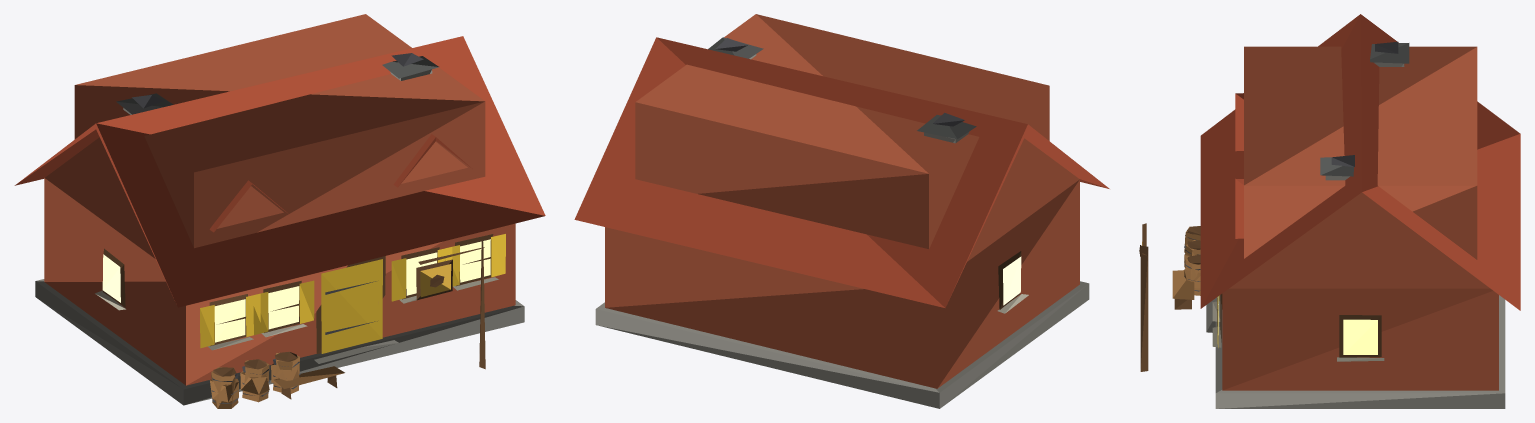
The model's file is inn_golden_perch_lod1.glb.
3 views of the same model, side by side, from view 1: azimuth 30°, elevation 25°; view 2: azimuth 150°, elevation 25°; view 3: azimuth 270°, elevation 25° (orthographic). The views are drawn at different scales.
Parts seen in each view (by area): view 1: inn_golden_perch_lod1; view 2: inn_golden_perch_lod1; view 3: inn_golden_perch_lod1.
Boxes of the visible parts, x1,y1,x2,y2 form: inn_golden_perch_lod1: (14,14,545,408); inn_golden_perch_lod1: (574,14,1109,408); inn_golden_perch_lod1: (1139,14,1520,408).
Size of the model in its own units: 9.6 by 5.77 by 8.82.
